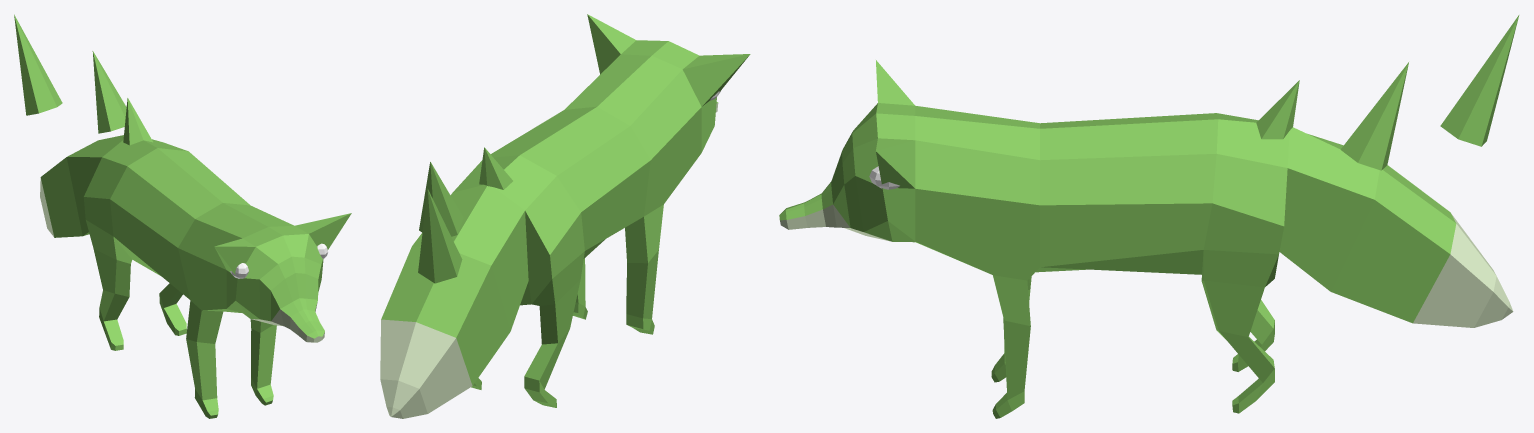
The model's file is TerraPup.fbx.
3 renders of one model, left to right at view 1: azimuth 30°, elevation 25°; view 2: azimuth 150°, elevation 25°; view 3: azimuth 270°, elevation 25°, orthographic. The views are drawn at different scales.
Parts seen in each view (by area): view 1: Body, Head, Glow_8cd264, LegBL, LegFL, LegFR, LegBR, Glow_ffffff; view 2: Body, Head, Glow_8cd264, LegBL, LegFL, LegFR; view 3: Body, Head, LegBR, Glow_8cd264, LegFR, LegBL.
Part boxes in pixels (<box>): Body: <box>40,135,272,343</box>; Head: <box>178,203,351,342</box>; Glow_8cd264: <box>14,14,152,145</box>; LegBL: <box>86,220,132,350</box>; LegFL: <box>186,339,218,418</box>; LegFR: <box>250,319,276,405</box>; LegBR: <box>159,283,186,335</box>; Glow_ffffff: <box>230,243,327,278</box>; Body: <box>380,106,701,418</box>; Head: <box>564,14,750,159</box>; Glow_8cd264: <box>418,147,512,283</box>; LegBL: <box>524,251,584,407</box>; LegFL: <box>625,217,658,334</box>; LegFR: <box>573,258,587,319</box>; Body: <box>915,113,1513,327</box>; Head: <box>779,60,1039,267</box>; LegBR: <box>1041,203,1283,413</box>; Glow_8cd264: <box>1256,15,1519,170</box>; LegFR: <box>992,317,1030,418</box>; LegBL: <box>1232,300,1274,371</box>.
Bounding box in the file's own units: 0.7086 × 1.31 × 2.42.
3 materials, 1 textured.
